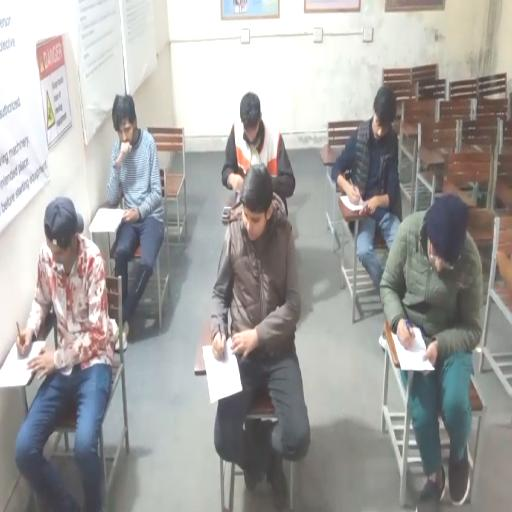paper: (203, 338, 243, 403), (0, 339, 46, 387), (392, 325, 436, 372), (90, 207, 126, 233), (338, 193, 368, 216)
